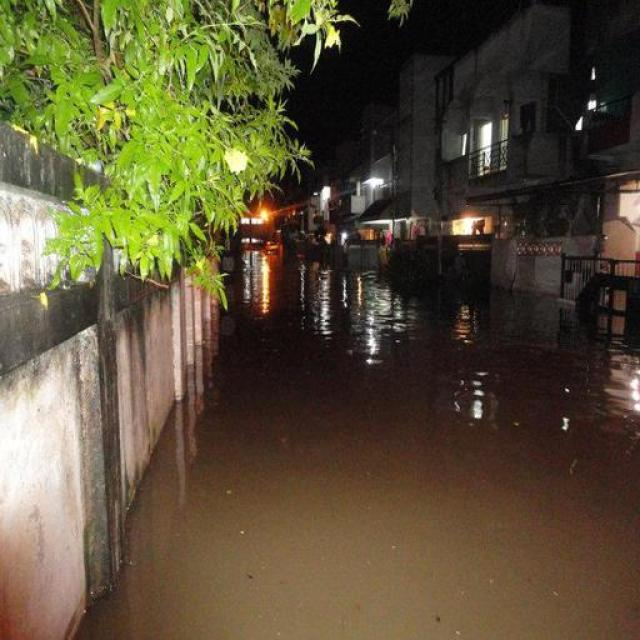puddle: (221, 246, 512, 640), (412, 327, 637, 640)
